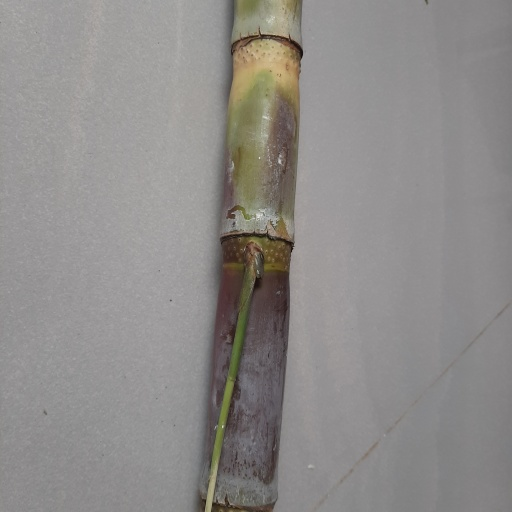Sprouted_Bud: (243, 242, 264, 292)
